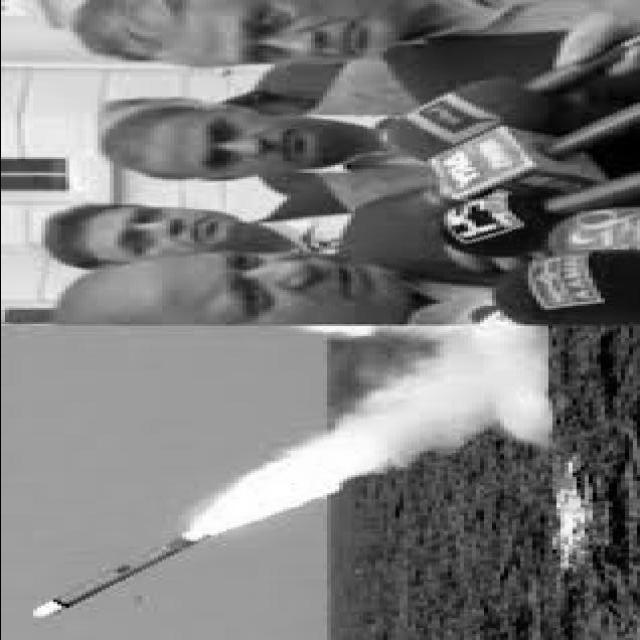Missile: (24, 528, 212, 622)
